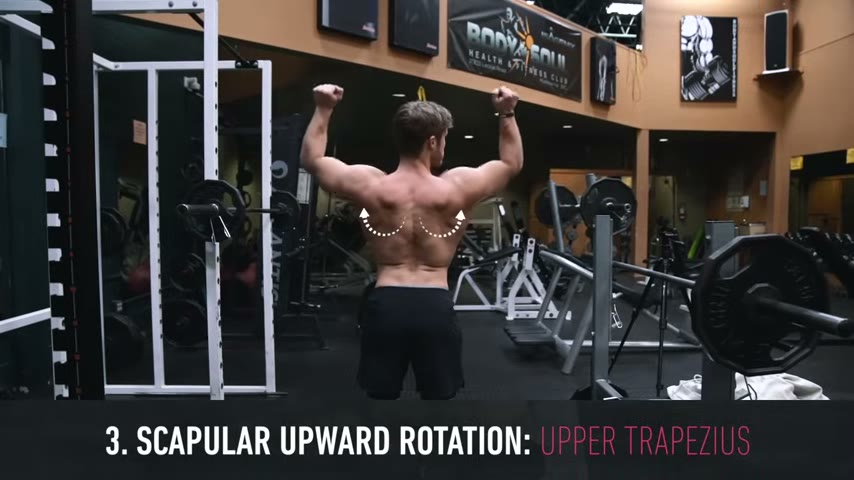barbell_plate_side: (800, 217, 854, 411)
